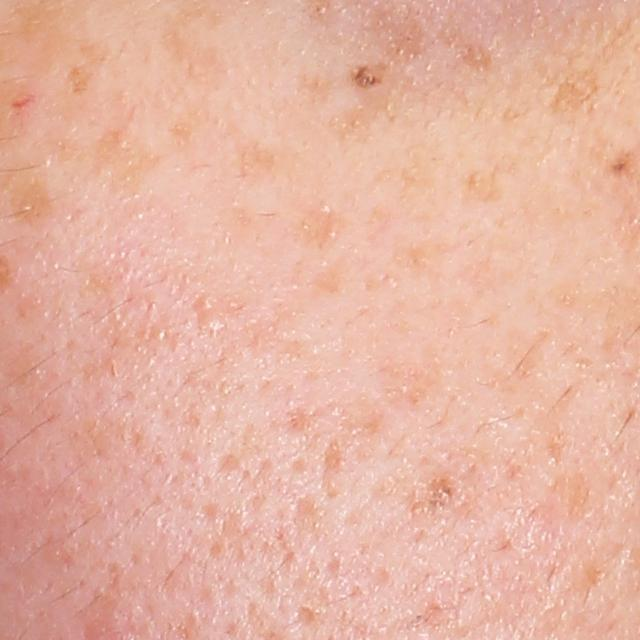atrophic_scar: (213, 452, 244, 476)
melasma: (51, 99, 169, 203), (529, 24, 637, 130), (463, 131, 542, 207), (229, 121, 292, 187), (63, 34, 117, 101), (290, 199, 352, 254), (163, 95, 220, 152)
